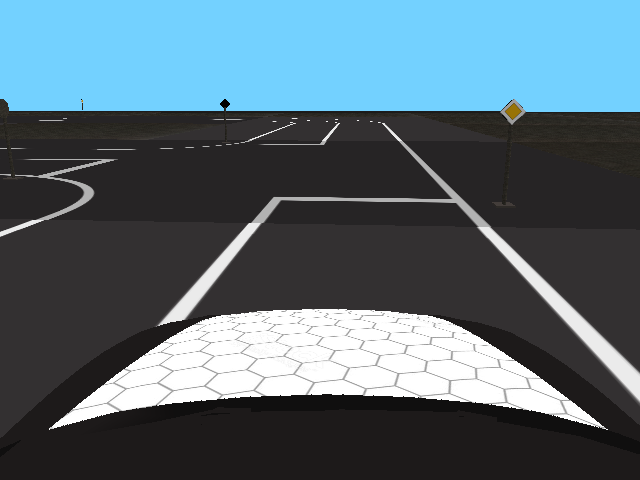priority: (499, 98, 527, 125)
